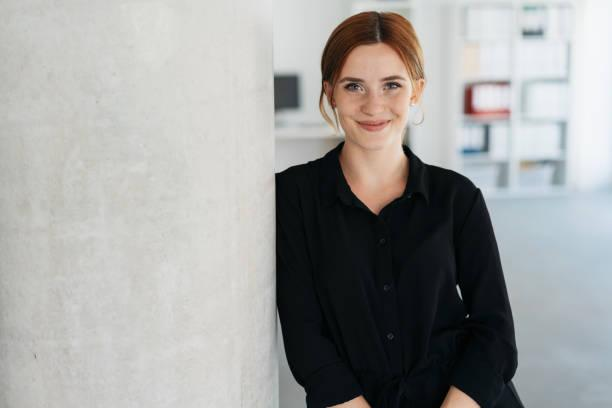no_goggle: (325, 74, 429, 103)
no_helmet: (309, 8, 439, 89)
no_vest: (269, 147, 518, 408)
